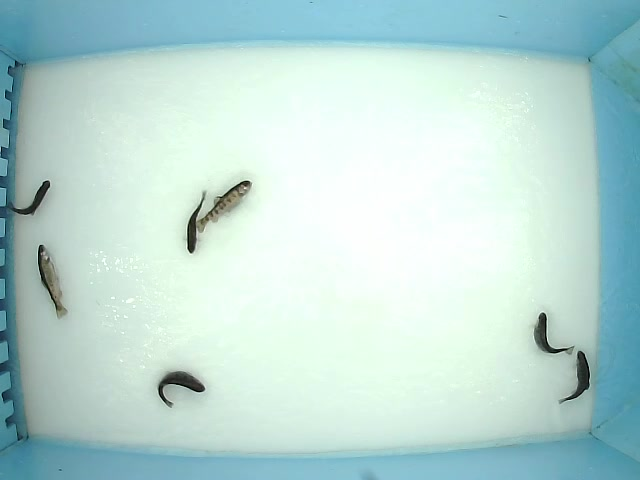fish: (196, 179, 253, 233), (37, 243, 68, 320), (528, 311, 575, 356), (157, 370, 206, 409), (557, 350, 591, 405), (5, 180, 51, 217), (186, 189, 208, 255)
